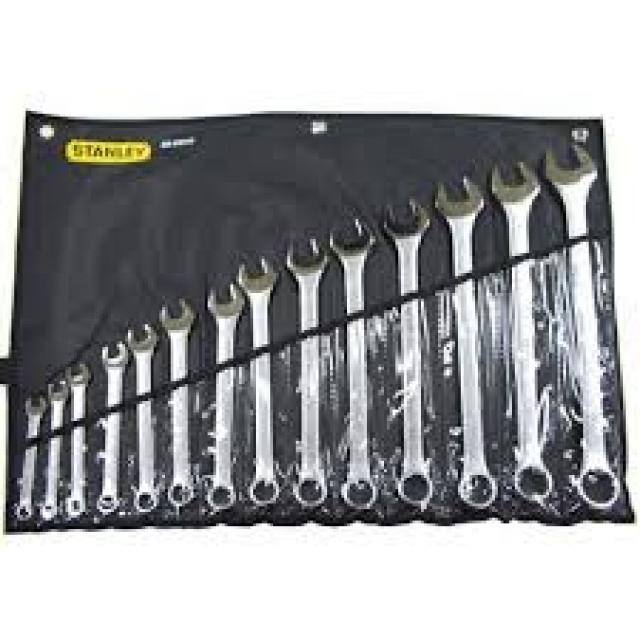wrench: (539, 143, 628, 514), (490, 160, 558, 507), (434, 169, 496, 512), (379, 193, 442, 512), (328, 214, 380, 512), (236, 252, 288, 508), (282, 232, 330, 507), (203, 280, 248, 510), (155, 296, 203, 506), (124, 318, 161, 512), (95, 338, 129, 514), (60, 360, 91, 518), (14, 392, 49, 518)
